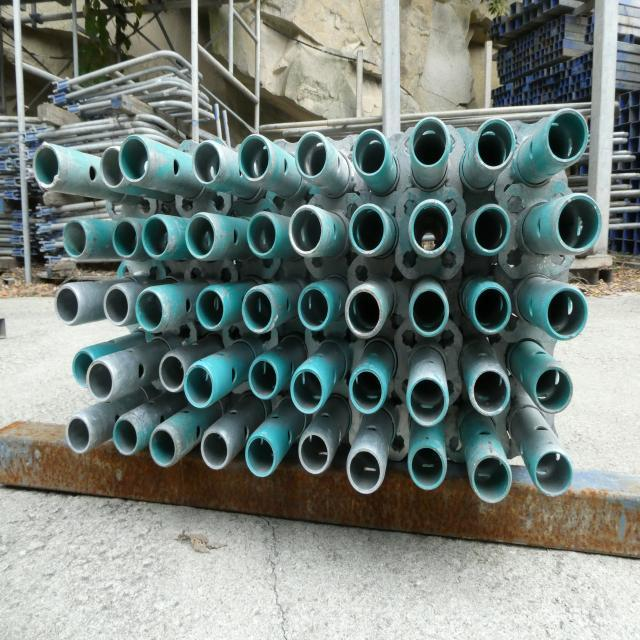pipe: (537, 274, 591, 348), (550, 190, 605, 260), (405, 196, 455, 264), (468, 114, 520, 178), (343, 199, 392, 264), (463, 360, 513, 423), (407, 111, 455, 176), (402, 371, 451, 434), (341, 283, 393, 342), (464, 278, 514, 339), (541, 105, 590, 167), (466, 446, 516, 506), (404, 280, 452, 342), (464, 202, 514, 260), (525, 361, 573, 420), (529, 440, 575, 500), (233, 130, 278, 188), (341, 442, 386, 500), (284, 202, 326, 264), (287, 360, 330, 420), (351, 125, 394, 183), (402, 442, 449, 494), (292, 125, 334, 183), (180, 208, 220, 268), (346, 361, 388, 418), (242, 206, 280, 268), (294, 280, 336, 336), (240, 282, 280, 340), (114, 130, 155, 186), (188, 132, 226, 190), (296, 424, 336, 479), (190, 282, 230, 336), (28, 138, 65, 196), (180, 358, 217, 414), (243, 430, 281, 484), (108, 212, 144, 265), (134, 284, 172, 334), (199, 423, 235, 475), (146, 420, 182, 472), (139, 210, 173, 265), (245, 354, 282, 404), (96, 142, 130, 196), (62, 410, 97, 460), (100, 280, 132, 332), (59, 213, 92, 263), (85, 357, 118, 407), (157, 348, 189, 399), (108, 411, 140, 461), (52, 284, 86, 326), (70, 345, 98, 392)
